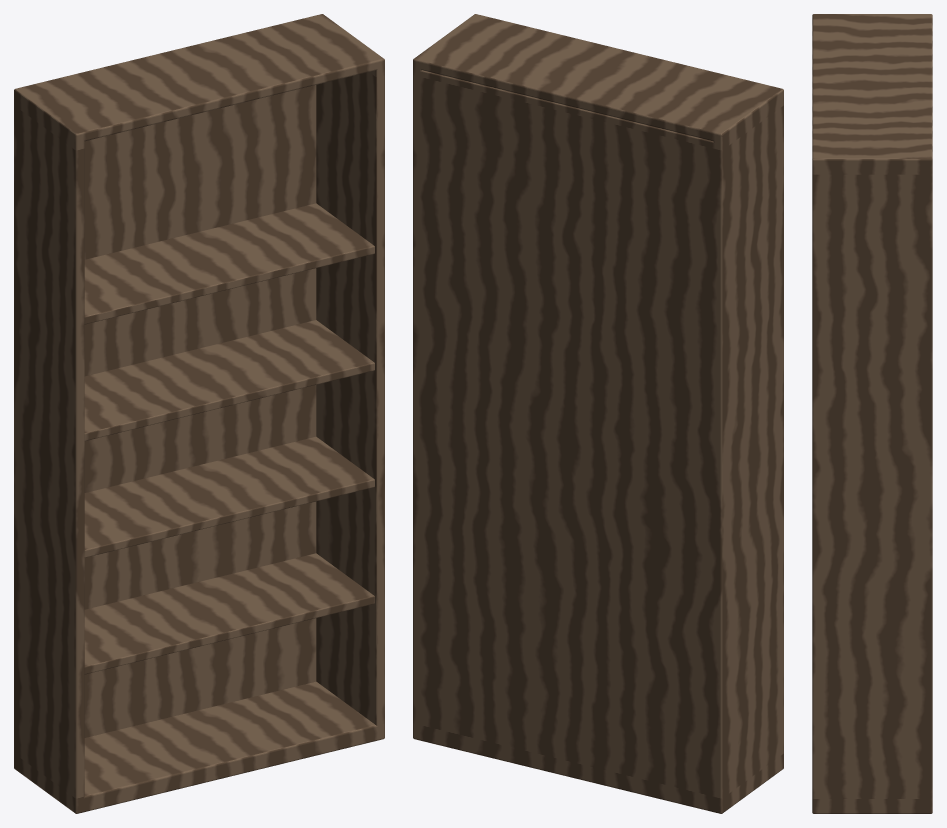
File: FUR_Bookcase.fbx
3 views of the same model, side by side, from view 1: azimuth 30°, elevation 25°; view 2: azimuth 150°, elevation 25°; view 3: azimuth 270°, elevation 25° (orthographic). The views are drawn at different scales.
Parts seen in each view (by area): view 1: Bookcase_Body; view 2: Bookcase_Body; view 3: Bookcase_Body.
Part boxes in pixels (box(x1,y1,x2,y2)): Bookcase_Body: box(14, 14, 384, 813); Bookcase_Body: box(413, 14, 783, 813); Bookcase_Body: box(812, 14, 932, 813).
Size of the model in its own units: 100 by 210 by 35.
